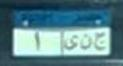1: (33, 31, 43, 51)
jeem: (93, 31, 108, 52)
noon: (80, 33, 91, 52)
yaa: (63, 33, 78, 52)
